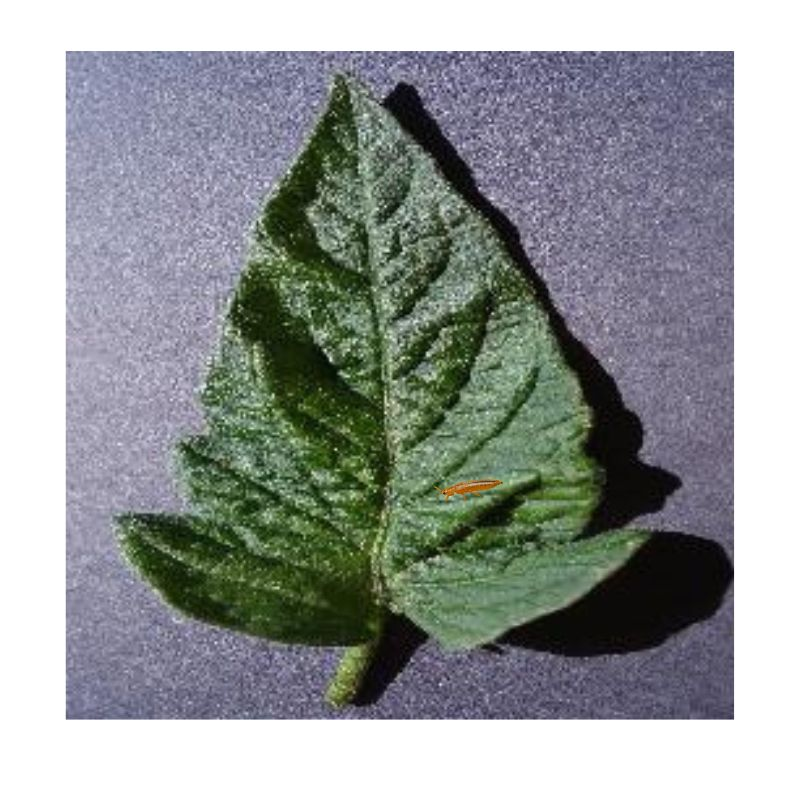thrips: (435, 478, 504, 498)
